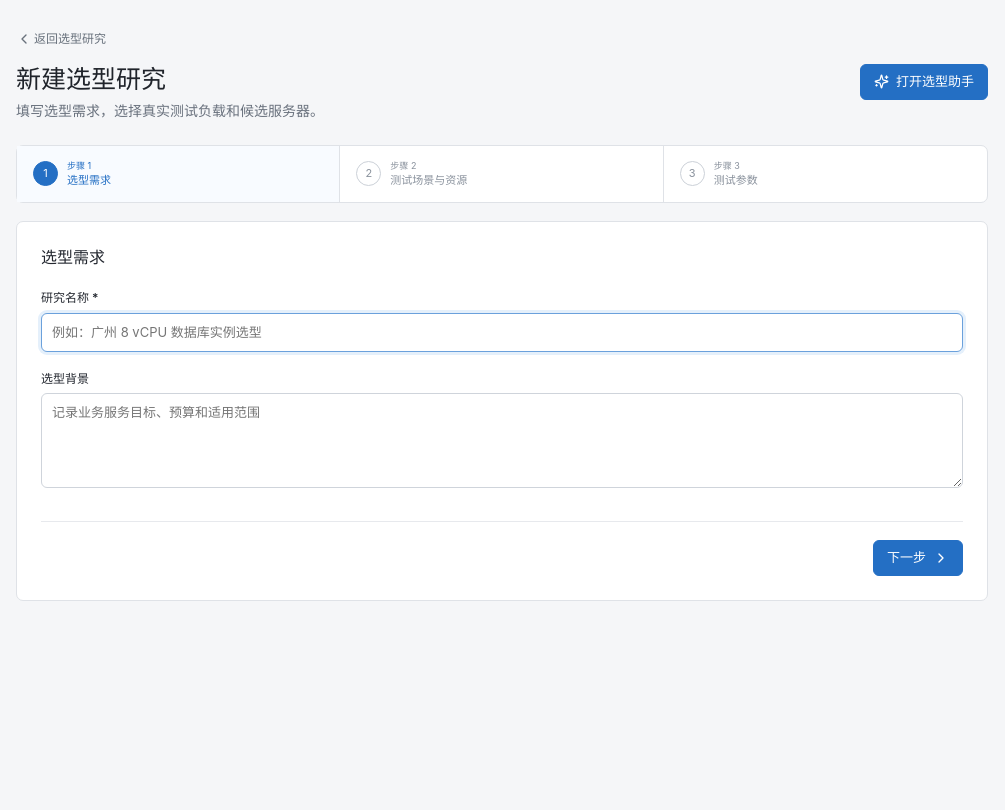
Test: 选型研究 Benchmark 目录 › 切换 Benchmark 时同步更新证据协议默认值
In the field labelled "研究名称 *": x=502, y=332 [41, 313, 963, 352], type "默认值切换"
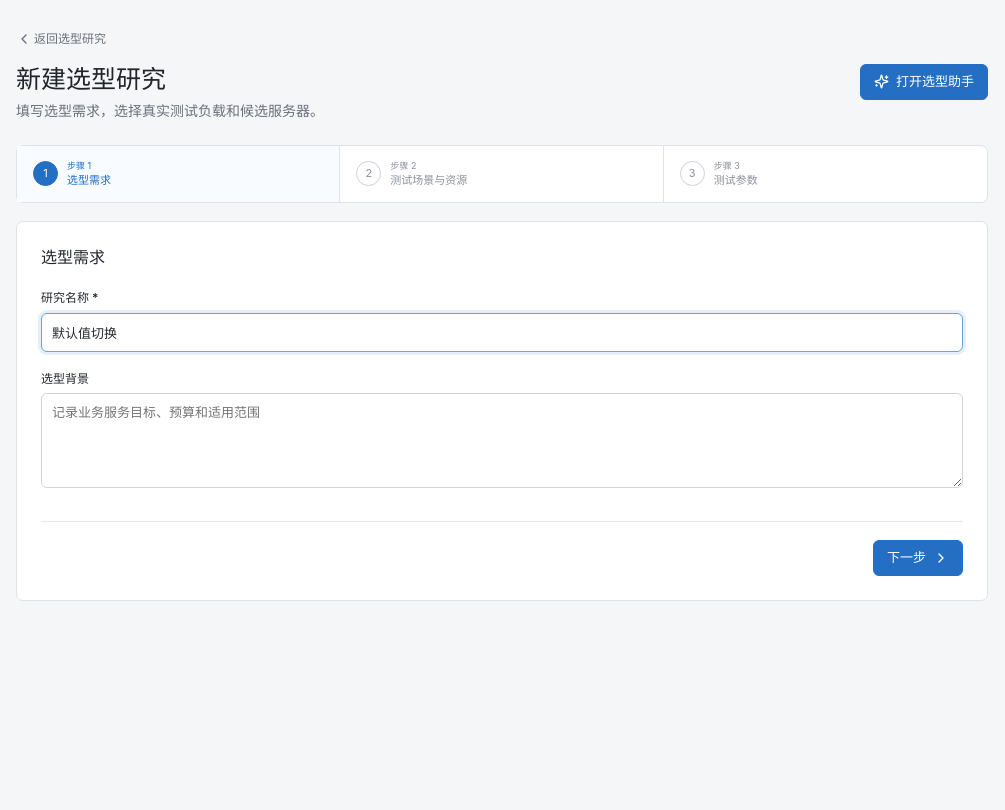
Click the button "下一步": x=918, y=558 [873, 540, 963, 576]
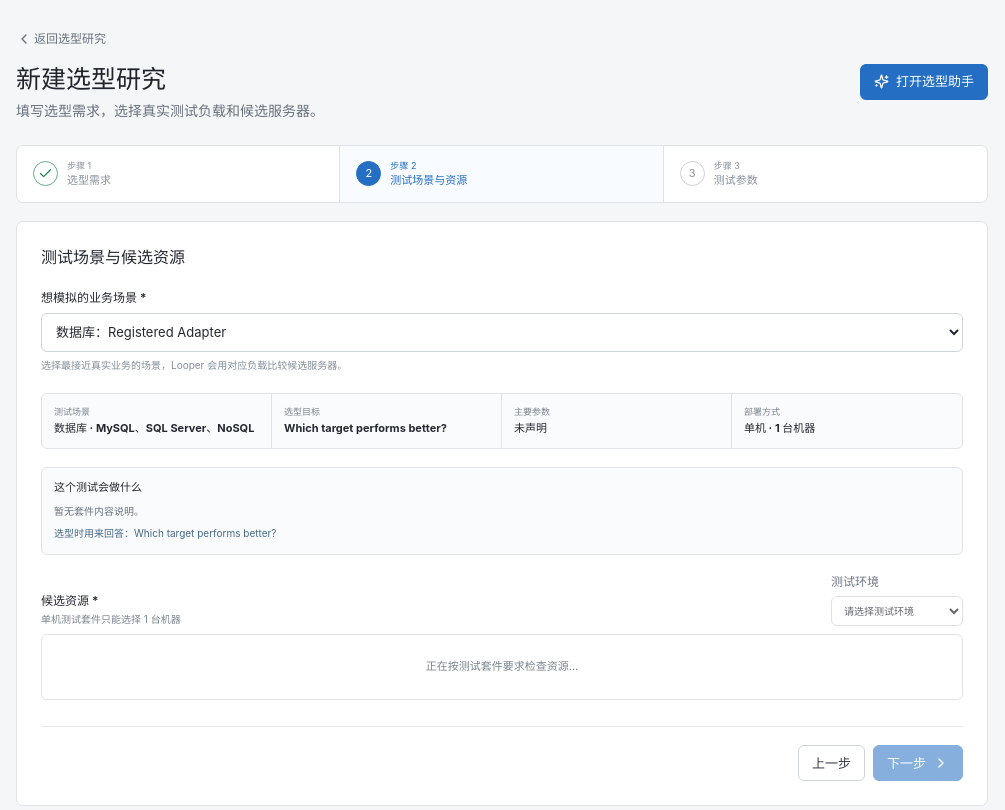
Expected: the dropdown labelled "想模拟的业务场景 * 选择最接近真实业务的场景，Looper 会用对应负载比较候选服务器。" shows "数据库：Registered Adapter"
Select "数据库：Alternate Adapter" in the dropdown labelled "想模拟的业务场景 * 选择最接近真实业务的场景，Looper 会用对应负载比较候选服务器。": x=502, y=332 [41, 313, 963, 352]
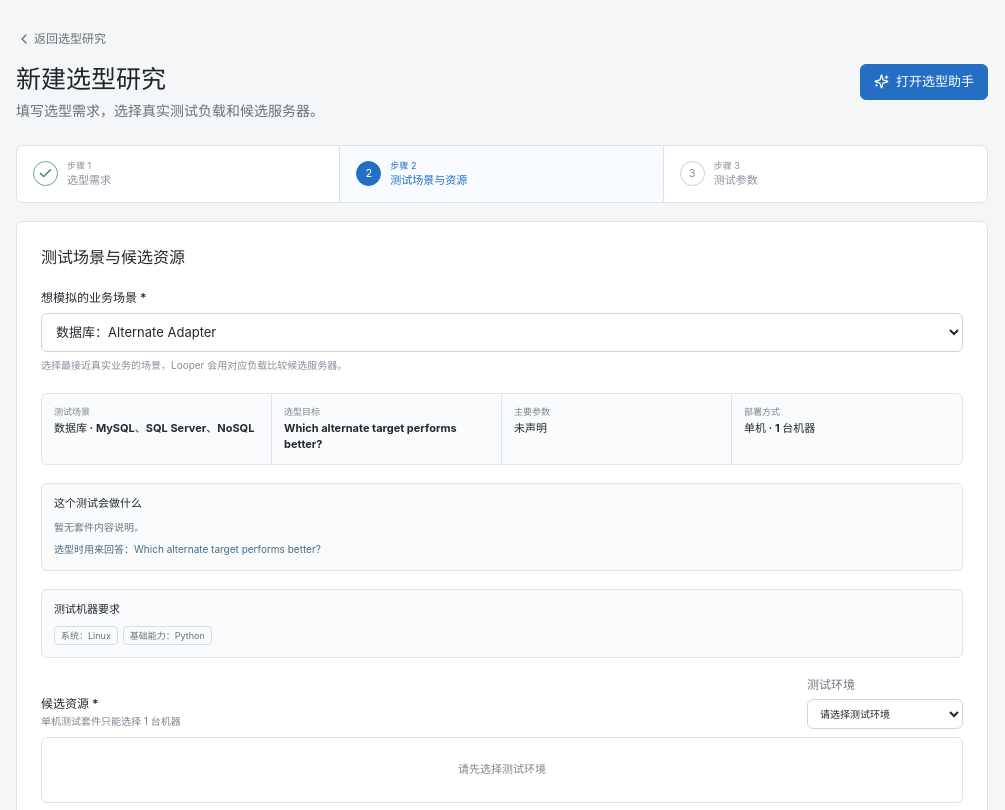
Select "外部 SSH（1 台可用）" in the dropdown labelled "测试环境": x=885, y=714 [807, 699, 963, 729]
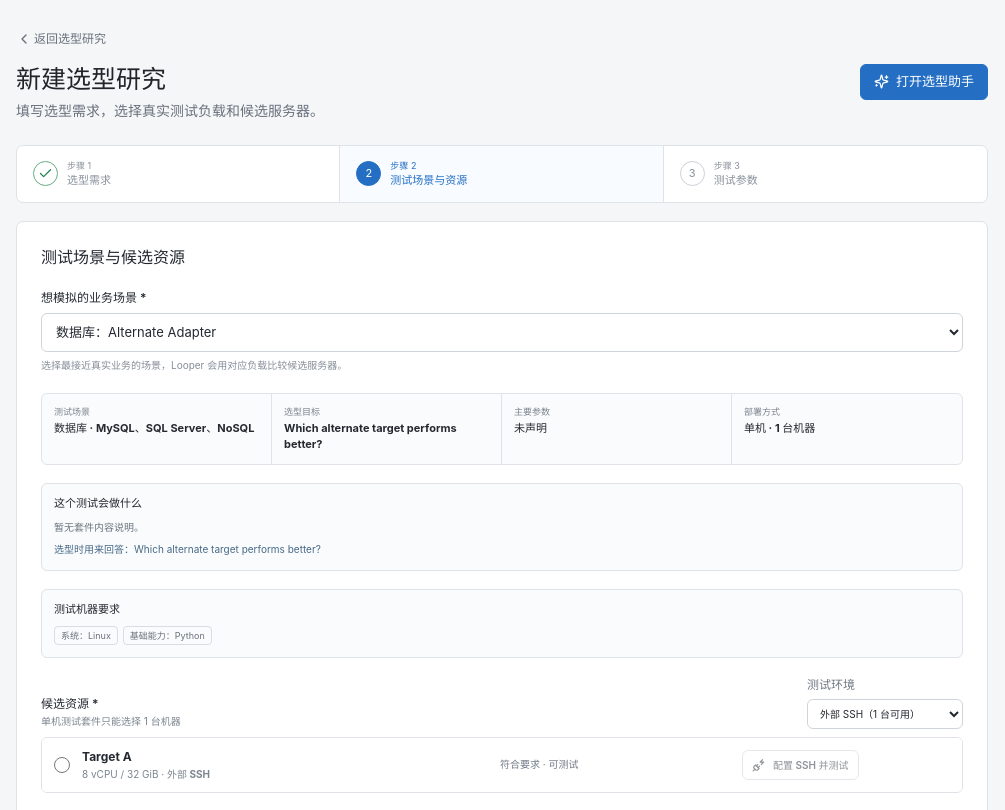
Click the radio button: x=62, y=765 [54, 757, 70, 773]
(page scrolled)
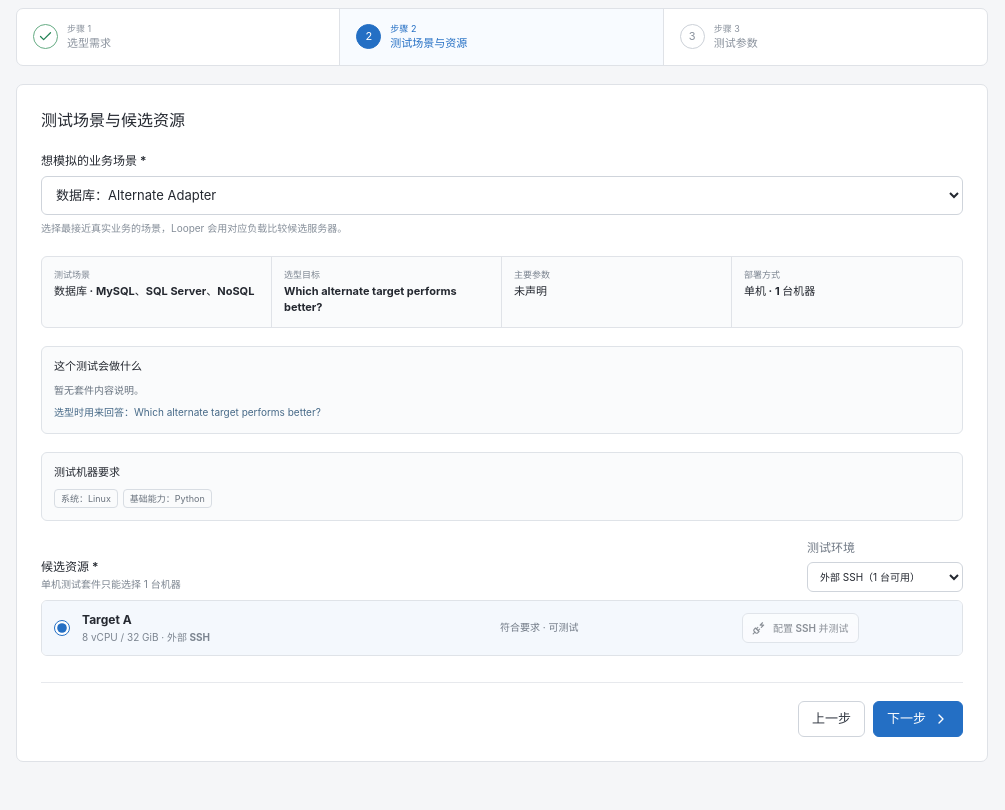
Expected: the button "下一步" is enabled
Click the button "下一步": x=918, y=719 [873, 701, 963, 737]
(page scrolled)
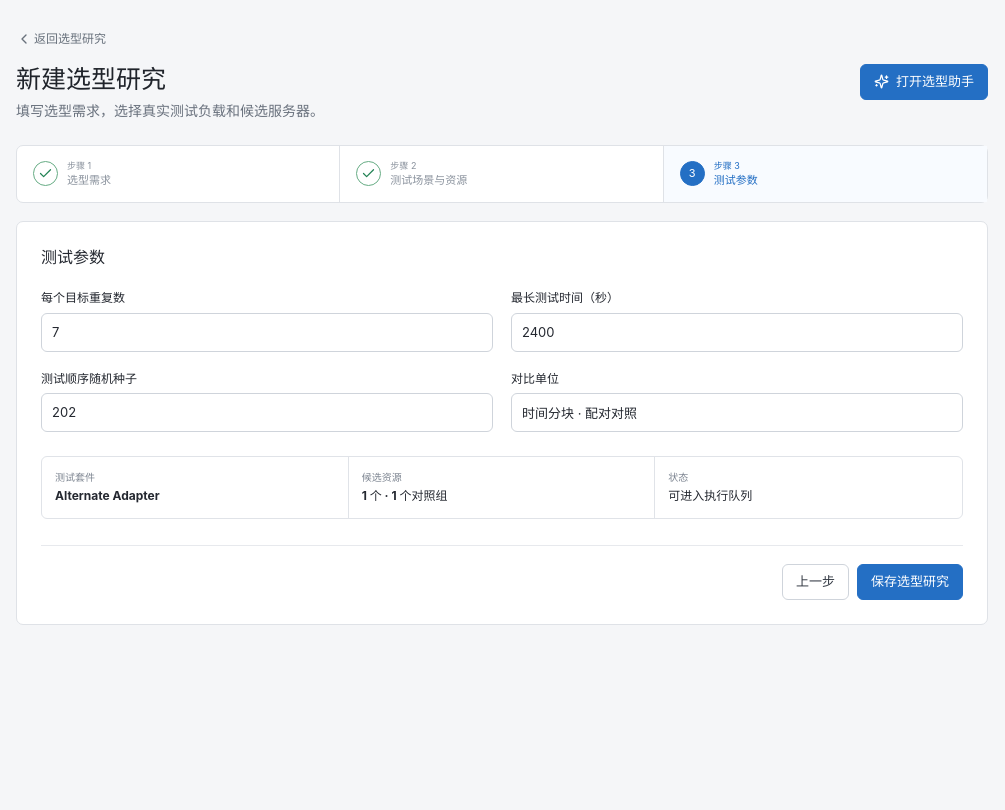
Expected: the number field labelled "每个目标重复数" holds "7", [41, 313, 493, 352]
Expected: the number field labelled "最长测试时间（秒）" holds "2400", [511, 313, 963, 352]
Expected: the number field labelled "测试顺序随机种子" holds "202", [41, 393, 493, 432]
